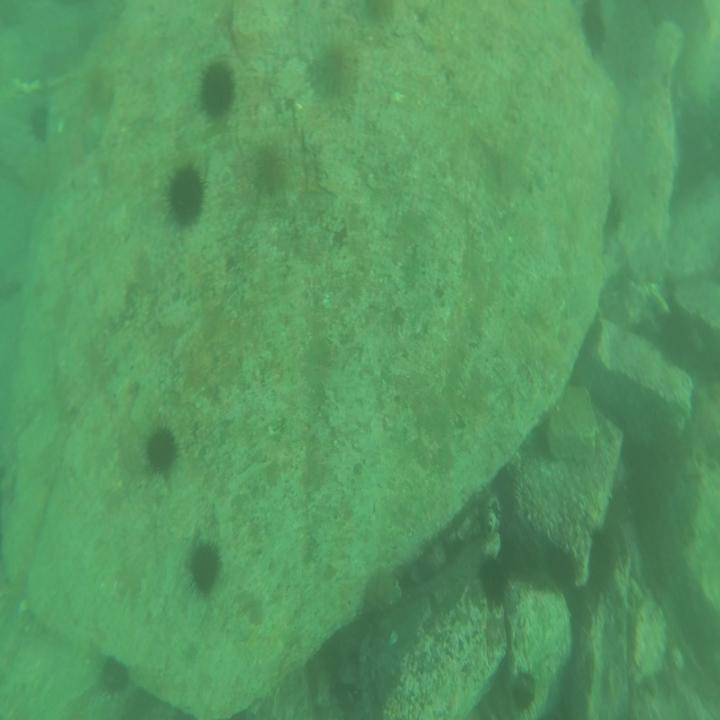echinus: (312, 26, 360, 92), (162, 162, 207, 231), (247, 136, 291, 198), (196, 58, 236, 125), (588, 519, 620, 595), (142, 424, 182, 475), (188, 537, 224, 592), (545, 532, 579, 588), (492, 462, 521, 514), (97, 654, 131, 698), (578, 10, 606, 56), (513, 669, 538, 719), (476, 558, 506, 599), (367, 568, 394, 610), (608, 183, 625, 233), (27, 104, 50, 137)
starfish: (78, 117, 103, 150)
